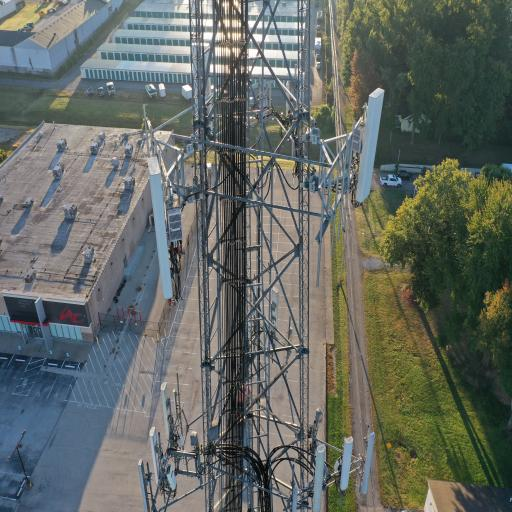supporting_tower: (106, 0, 393, 512)
